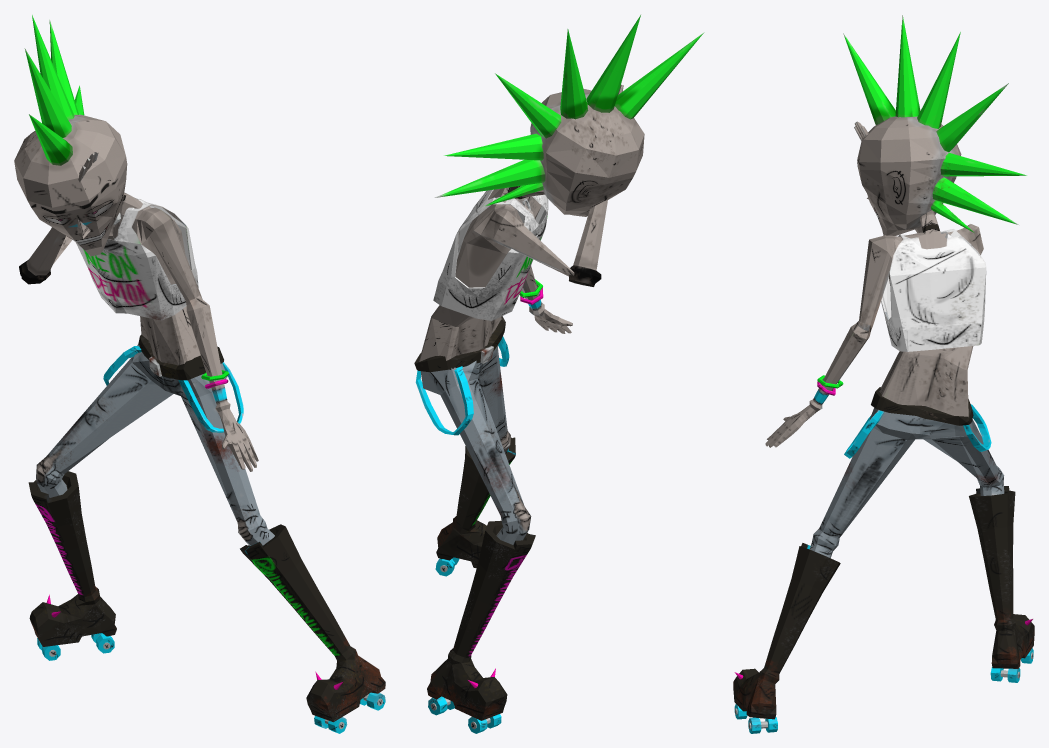
The model's file is punkAnimation_000004.obj.
3 views of the same model, side by side, from view 1: azimuth 30°, elevation 25°; view 2: azimuth 150°, elevation 25°; view 3: azimuth 270°, elevation 25° (orthographic). The views are drawn at different scales.
Visible parts, largest first — view 1: Cube.004_Cube.003; view 2: Cube.004_Cube.003; view 3: Cube.004_Cube.003.
Boxes of the visible parts, left/top/right/bottom form: Cube.004_Cube.003: left=14, top=15, right=385, bottom=733; Cube.004_Cube.003: left=414, top=15, right=704, bottom=733; Cube.004_Cube.003: left=733, top=15, right=1034, bottom=733.
Size of the model in its own units: 3.18 by 6.71 by 3.01.
